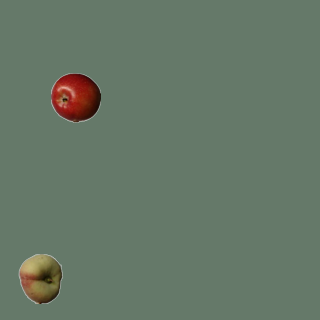Apple Braeburn: (50, 72, 100, 122)
Peach Flat: (15, 253, 65, 303)
